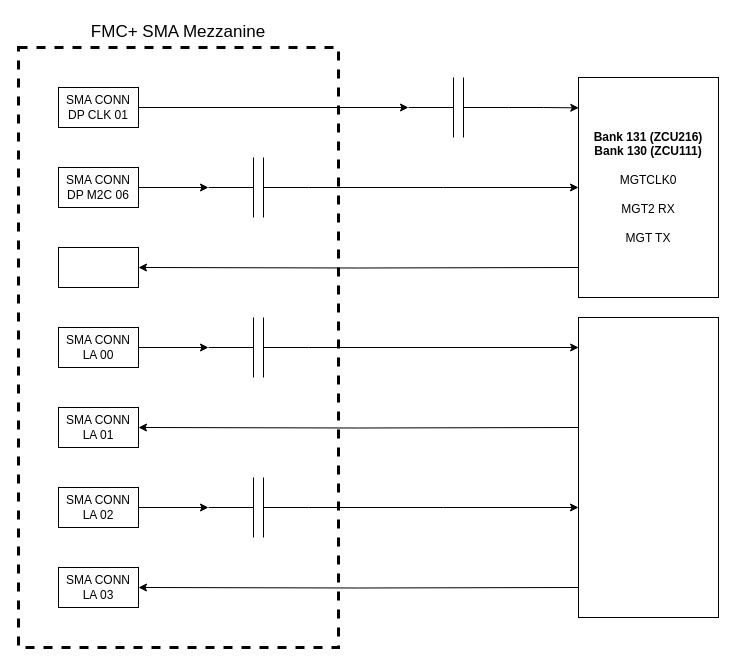
This 736x666 diagram has some shape labels left out. The centre of each missing label's shape, as x and y in pixels:
"Bank 67 (ZCU216) Bank 65 (ZCU111) LA 00 CC LA 01 CC LA 02 LA 03" goes at pixel 648 467.
"SMA CONN DP C2M 06" goes at pixel 98 267.
